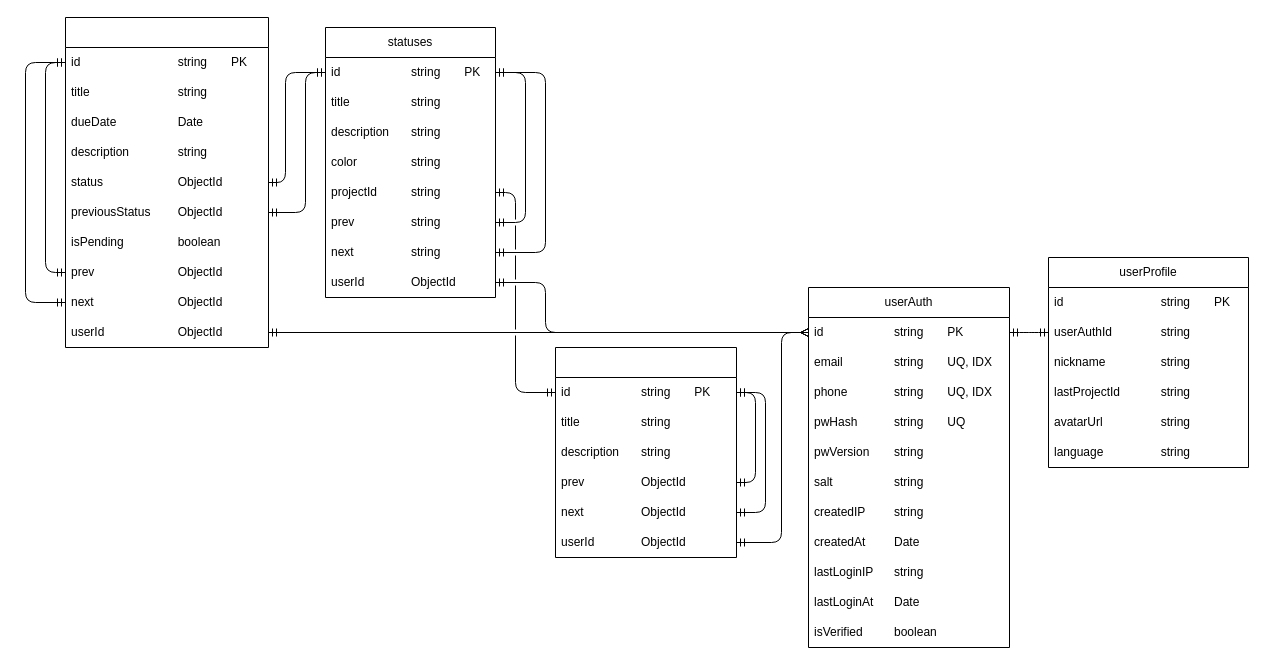
Image size: 1266x665. Some labels were removed from this diagram. The shapes that lost their labels are listed below. From the top down, each one's box as (x1, y1, x2, y2) in pixels, then its label:
(64, 16, 268, 348): tasks
(554, 346, 736, 558): projects
